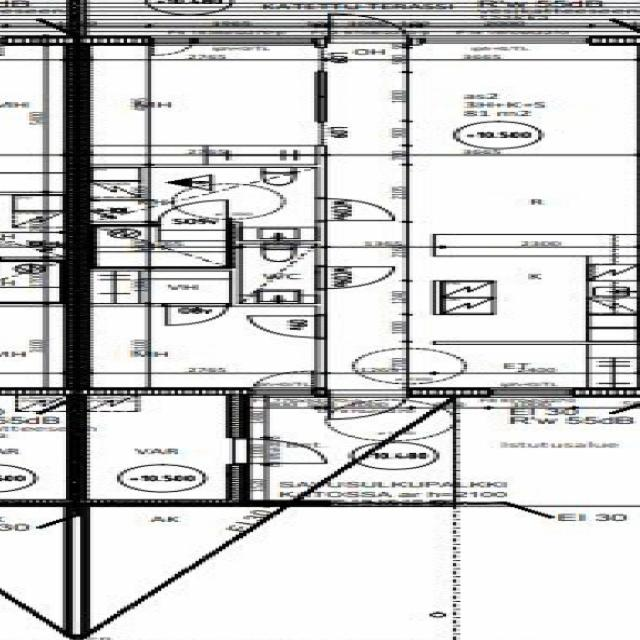door: (329, 12, 405, 46), (330, 388, 404, 421), (225, 439, 322, 463), (247, 315, 326, 337), (315, 266, 394, 288), (315, 199, 392, 220), (160, 201, 224, 226), (167, 303, 225, 325)
